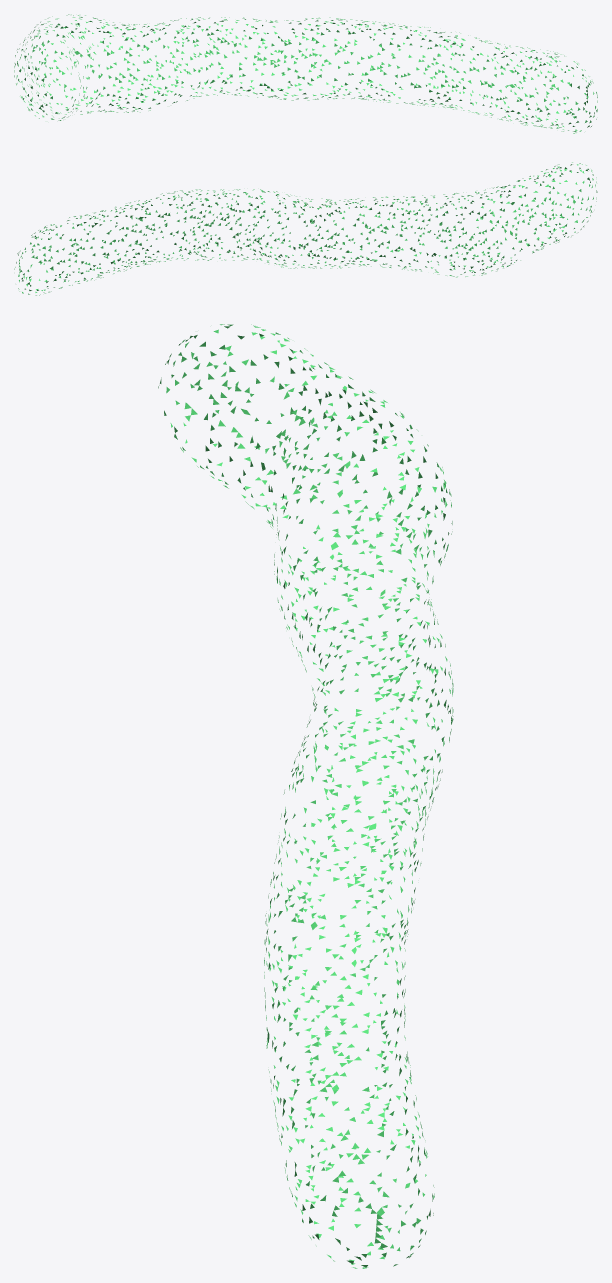
Rendered from morph_020.glb.
3 views of the same model, one above another, from view 1: azimuth 30°, elevation 25°; view 2: azimuth 150°, elevation 25°; view 3: azimuth 270°, elevation 25° (orthographic). The views are drawn at different scales.
Size of the model in its own units: 125 by 50.7 by 30.04.
